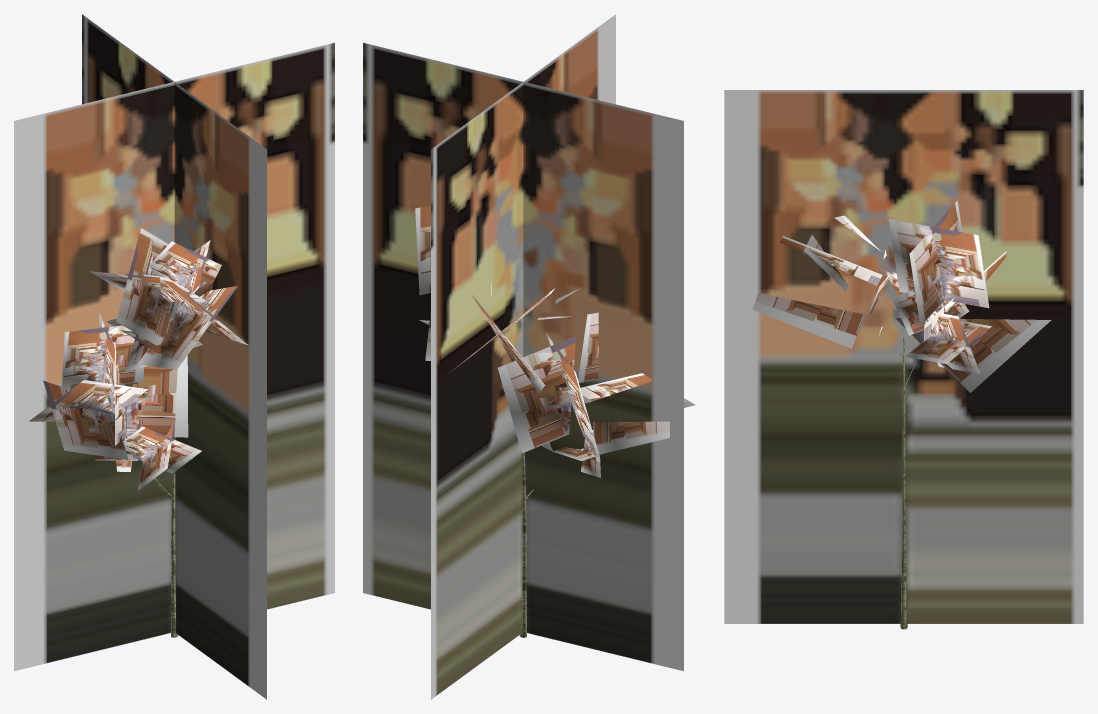
File: Tree-Beech4D-mobile.fbx
The picture shows the model from 3 angles, left to right: view 1: azimuth 30°, elevation 25°; view 2: azimuth 150°, elevation 25°; view 3: azimuth 270°, elevation 25°; orthographic projection. The views are drawn at different scales.
Parts seen in each view (by area): view 1: Billboard-BeechD, Tree-Beech4D-mobile_LOD0; view 2: Billboard-BeechD, Tree-Beech4D-mobile_LOD0; view 3: Billboard-BeechD, Tree-Beech4D-mobile_LOD0.
Boxes of the visible parts, box(x1,y1,x2,y2) form: Billboard-BeechD: box(14, 14, 334, 699); Tree-Beech4D-mobile_LOD0: box(29, 228, 248, 637); Billboard-BeechD: box(363, 14, 683, 699); Tree-Beech4D-mobile_LOD0: box(415, 205, 695, 637); Billboard-BeechD: box(724, 90, 1083, 623); Tree-Beech4D-mobile_LOD0: box(752, 200, 1051, 629).
Size of what is drawn, in the model's own units: 676 by 1116 by 676.
